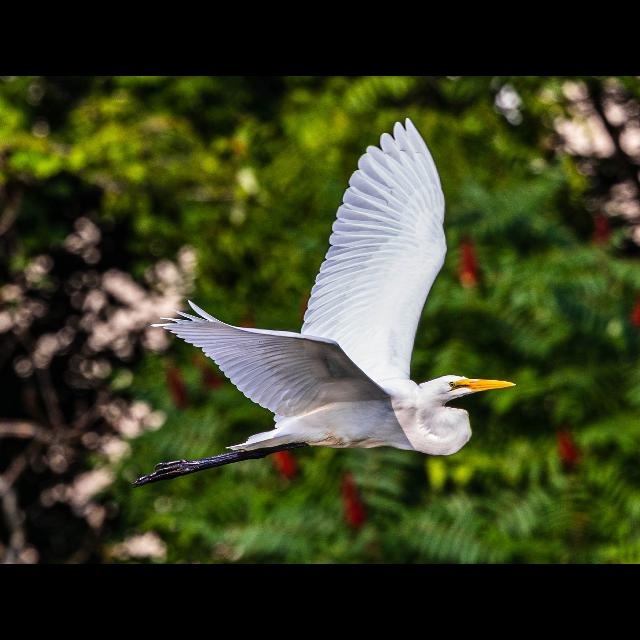egret: (125, 121, 515, 489)
